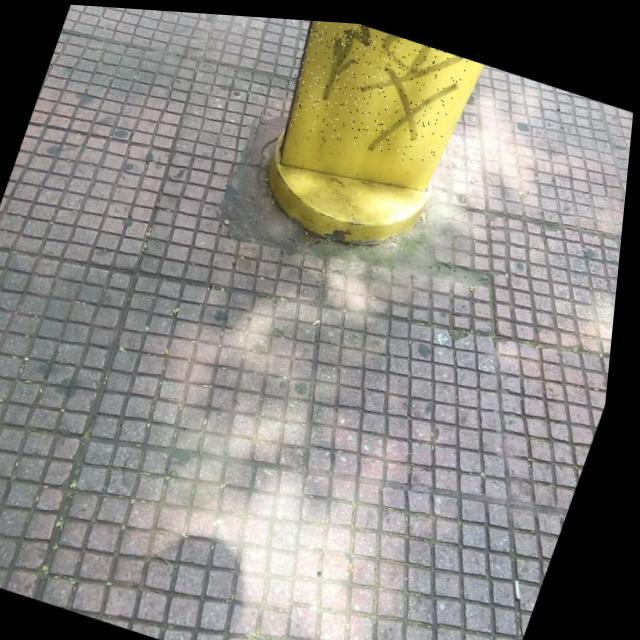-: (277, 15, 471, 165)
